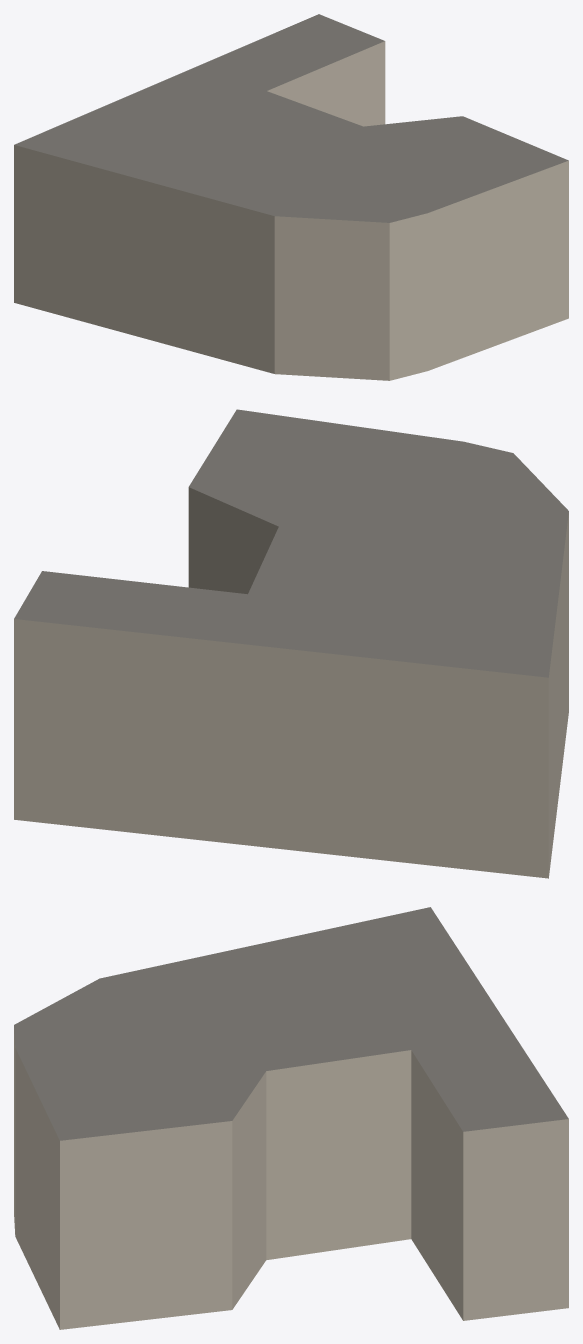
The picture shows the model from 3 angles, top to bottom: view 1: azimuth 30°, elevation 25°; view 2: azimuth 150°, elevation 25°; view 3: azimuth 270°, elevation 25°; orthographic projection. The views are drawn at different scales.
Visible parts, largest first — view 1: HP-w1196661446; view 2: HP-w1196661446; view 3: HP-w1196661446.
Boxes of the visible parts, x1,y1,x2,y2 form: HP-w1196661446: (14,14,568,380); HP-w1196661446: (14,409,568,878); HP-w1196661446: (14,907,568,1329).
Size of the model in its own units: 47.73 by 18 by 47.88.
